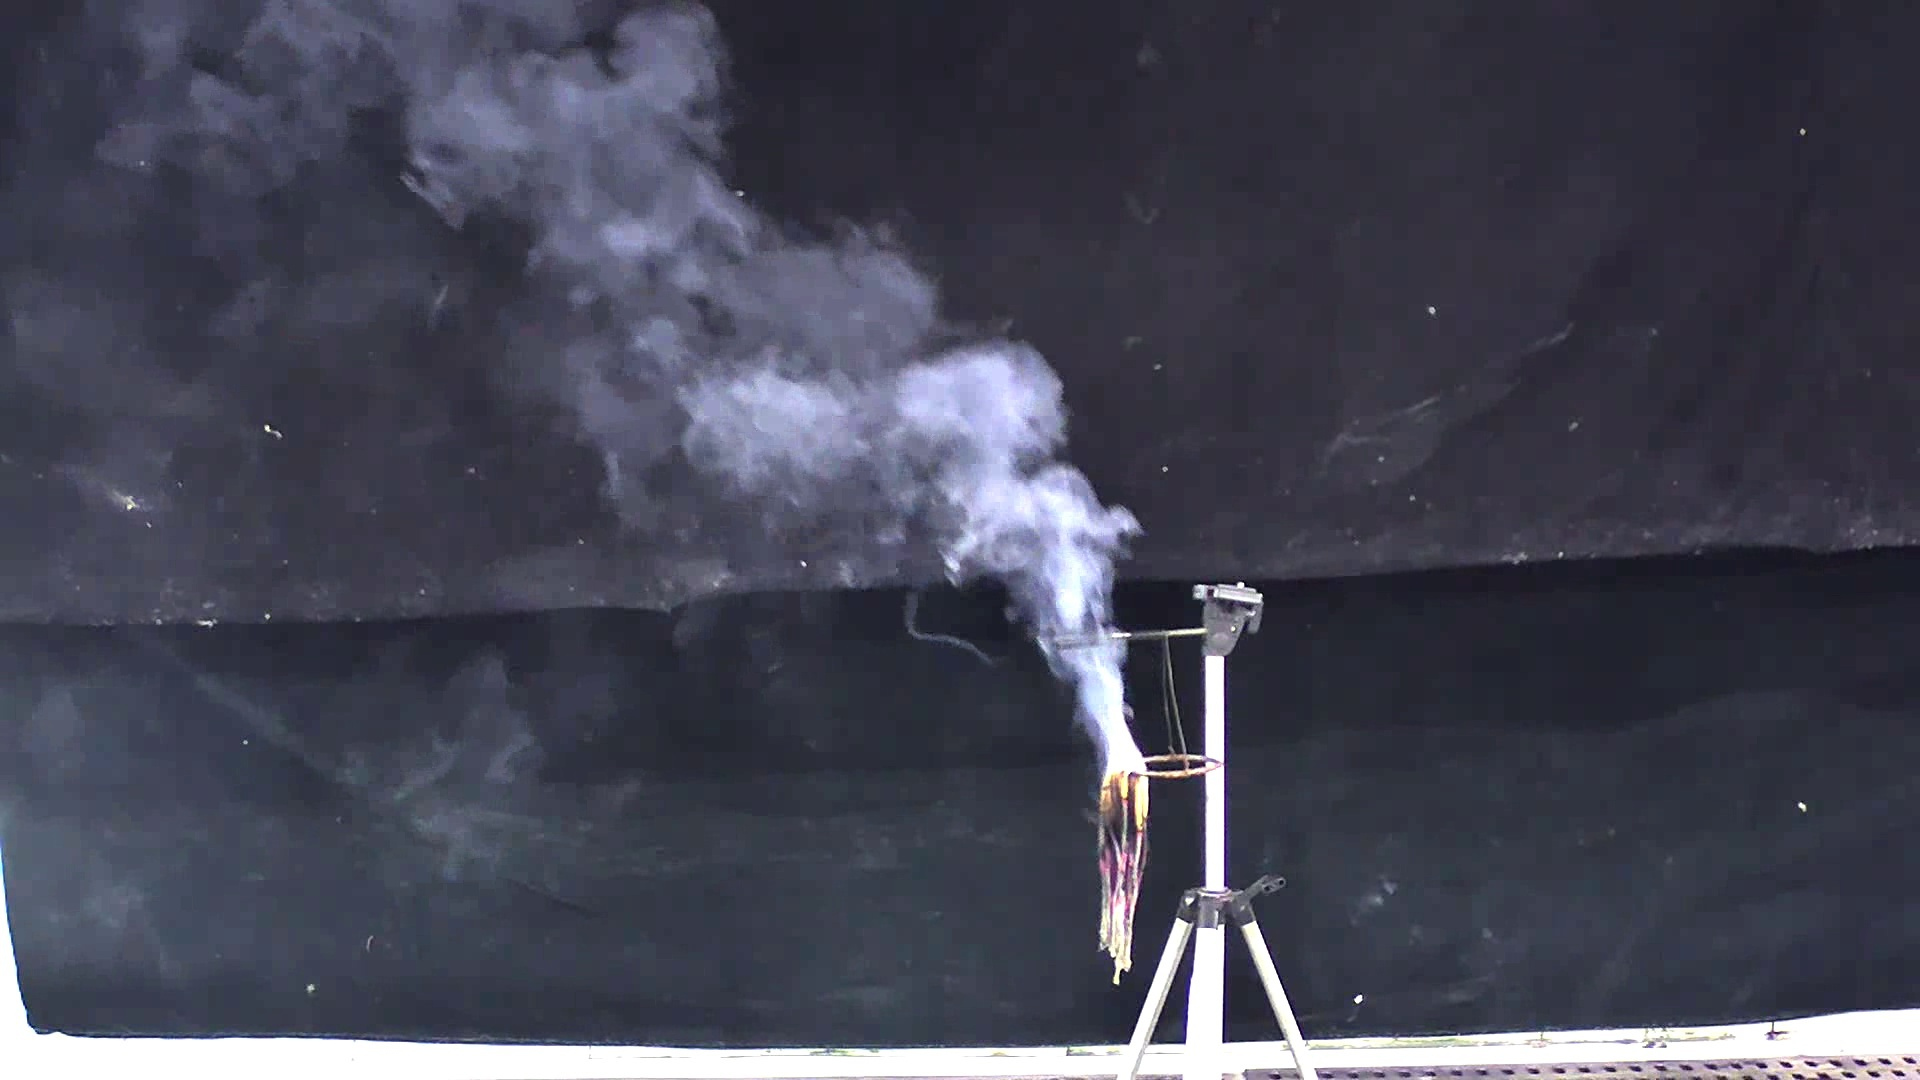smoke: (411, 9, 1185, 771)
